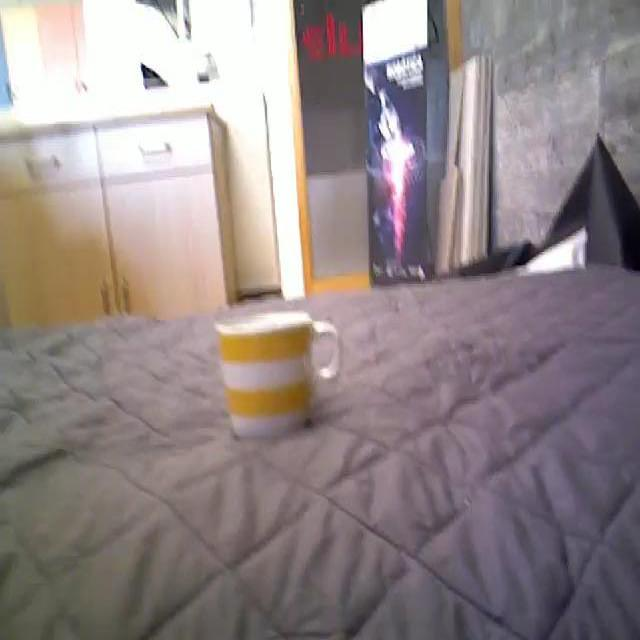cup: (209, 305, 347, 447)
